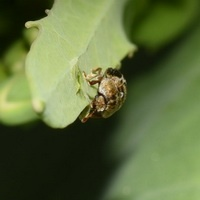insect: (79, 68, 126, 122)
